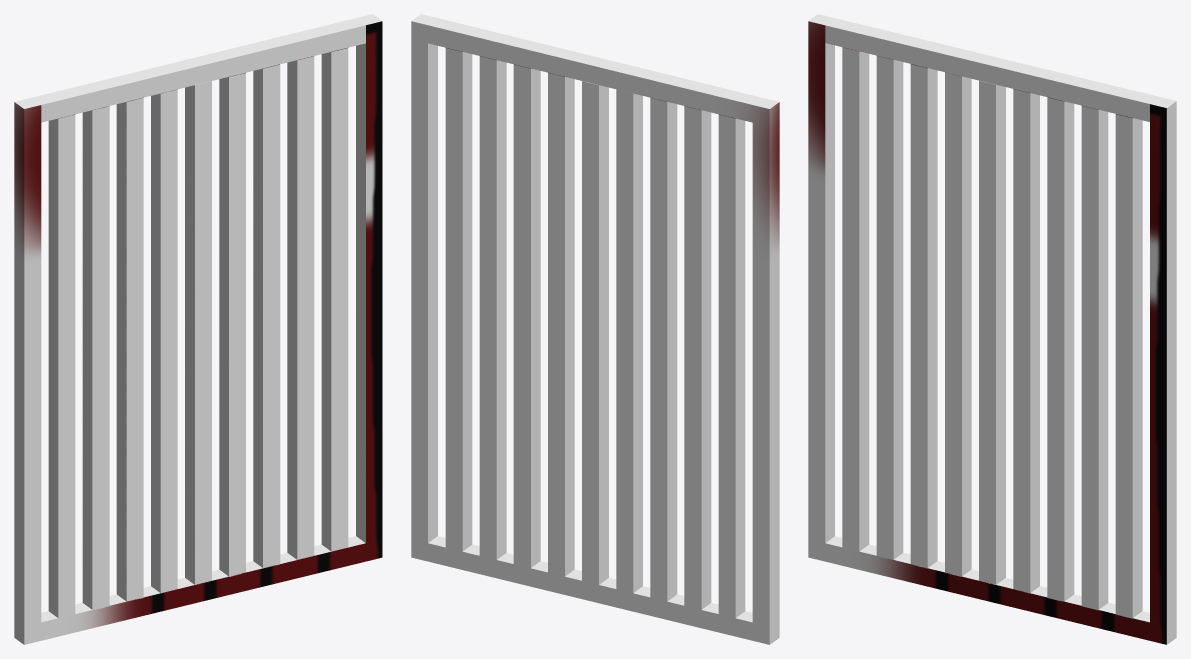
The model's file is bar.fbx.
The picture shows the model from 3 angles, left to right: view 1: azimuth 30°, elevation 25°; view 2: azimuth 150°, elevation 25°; view 3: azimuth 330°, elevation 25°; orthographic projection.
Visible parts, largest first — view 1: Cube; view 2: Cube; view 3: Cube.
Part boxes in pixels (<box>): Cube: <box>14,14,382,644</box>; Cube: <box>411,14,779,644</box>; Cube: <box>808,14,1176,644</box>.
Size of the model in its own units: 210 by 300 by 10.
